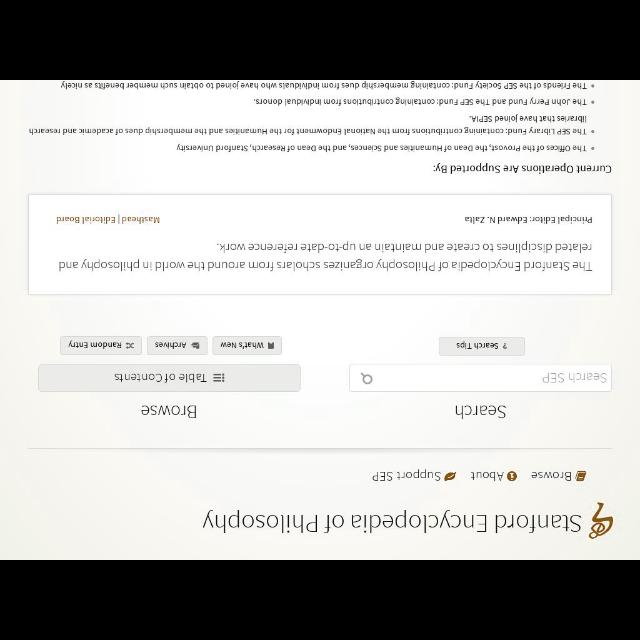icon: (359, 371, 373, 385), (212, 372, 225, 384), (444, 471, 458, 482), (574, 471, 586, 482), (507, 471, 517, 482), (191, 341, 201, 349), (125, 341, 135, 349), (502, 341, 508, 349), (268, 341, 274, 349), (588, 145, 596, 151), (591, 128, 595, 134), (591, 99, 595, 105), (590, 84, 596, 88)
image: (589, 501, 613, 539)
input: (348, 363, 612, 391)
multitab: (373, 468, 587, 482)
text: (57, 240, 593, 272), (29, 114, 588, 136), (203, 508, 582, 534), (60, 80, 588, 90), (253, 97, 587, 107), (175, 144, 588, 152), (432, 162, 612, 174), (464, 214, 592, 224), (56, 213, 160, 225), (114, 371, 206, 383), (372, 468, 442, 482), (542, 371, 608, 383), (140, 404, 196, 418), (454, 404, 506, 418), (66, 340, 122, 350), (532, 471, 572, 482), (220, 340, 264, 350), (456, 340, 498, 350), (470, 472, 504, 481), (156, 341, 187, 349)
textbutton: (38, 364, 300, 392), (438, 336, 526, 356), (59, 336, 142, 354), (212, 336, 282, 354), (146, 336, 208, 354)
